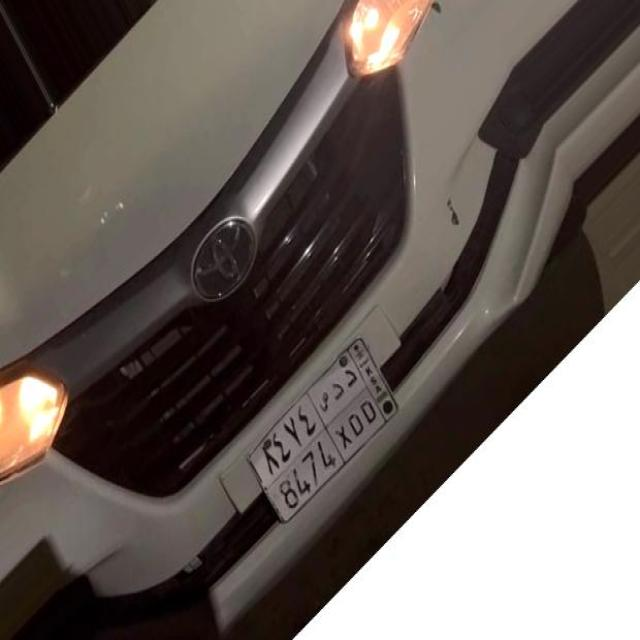Car-plate: (234, 318, 422, 536)
